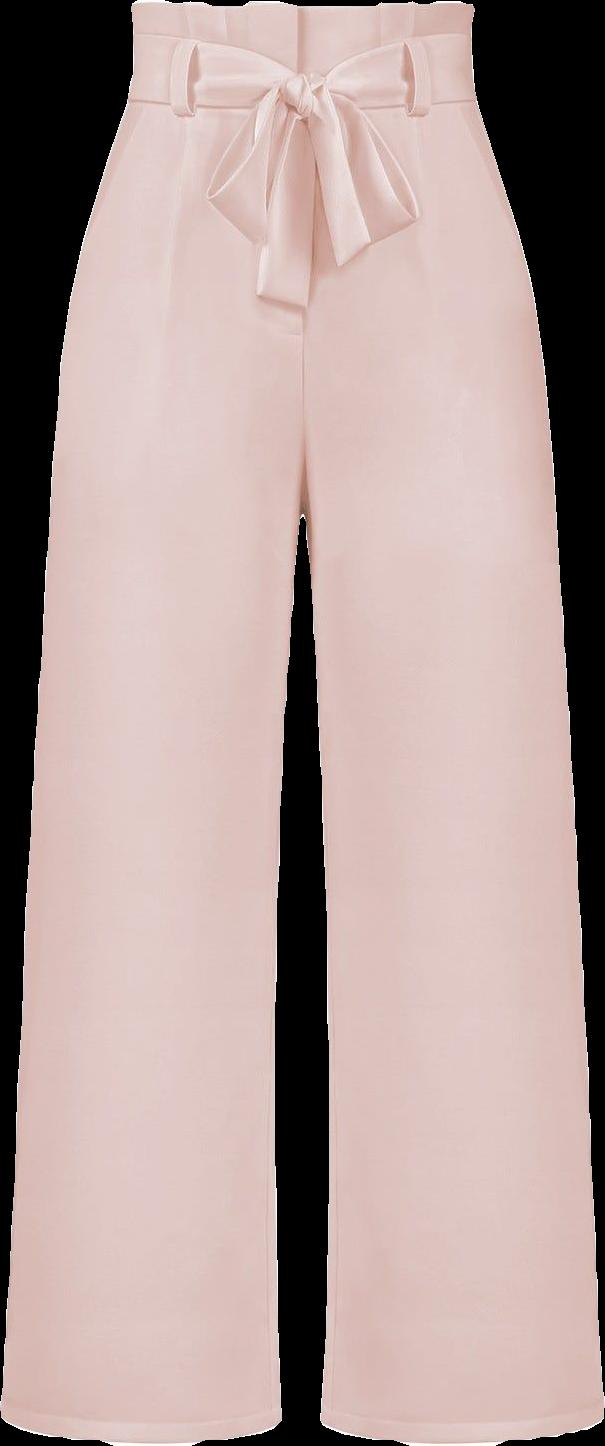Hemline: (0, 1404, 286, 1444), (316, 1407, 604, 1445)
Pantleg: (302, 0, 604, 1443), (1, 0, 302, 1443)
Waistline: (123, 87, 481, 122), (125, 0, 476, 21)
